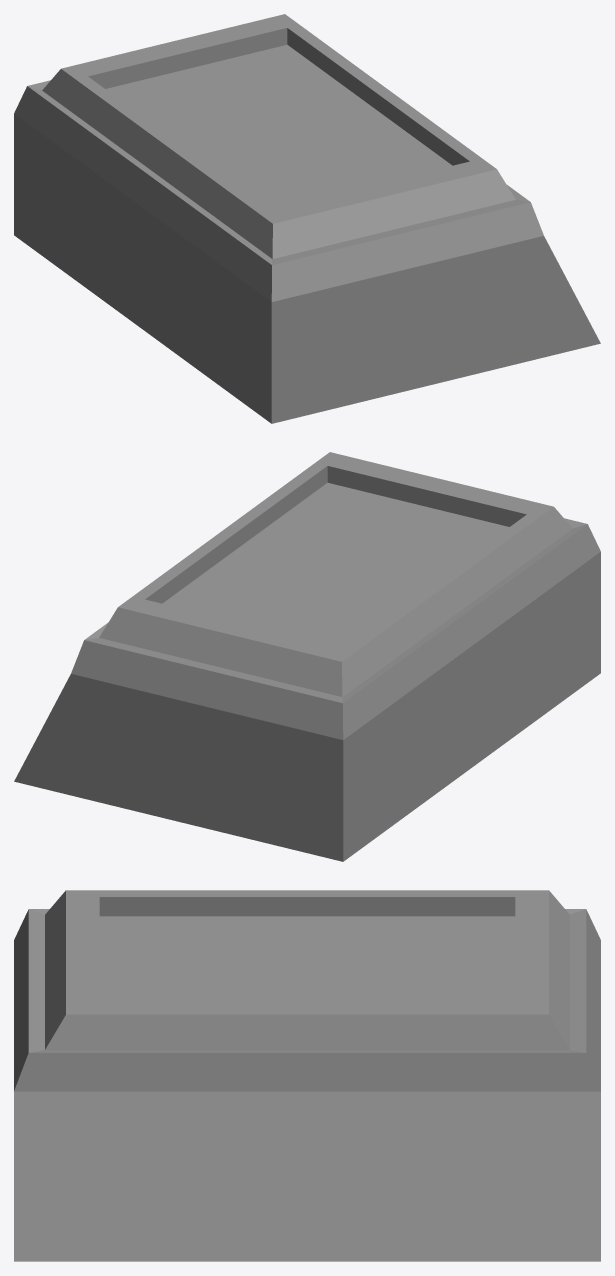
Rendered from M.E.Receptor.fbx.
3 views of the same model, one above another, from view 1: azimuth 30°, elevation 25°; view 2: azimuth 150°, elevation 25°; view 3: azimuth 270°, elevation 25° (orthographic). The views are drawn at different scales.
Parts seen in each view (by area): view 1: M.E.Receptor; view 2: M.E.Receptor; view 3: M.E.Receptor.
Part boxes in pixels (x1,y1,x2,y2): M.E.Receptor: [14, 14, 600, 423]; M.E.Receptor: [14, 452, 600, 861]; M.E.Receptor: [14, 890, 600, 1261].
Size of the model in its own units: 741 by 381 by 1004.
